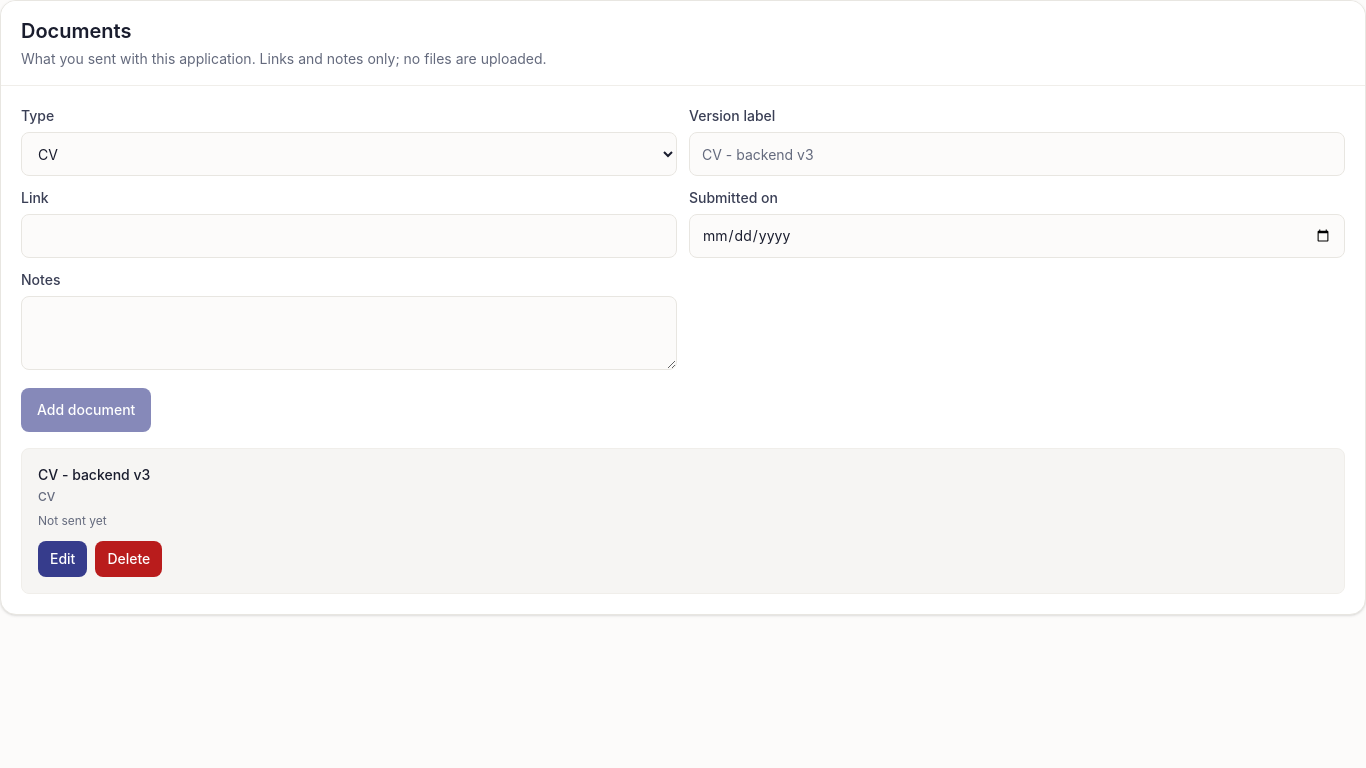
Test case: JobDetailDocumentsPanel › deletes a document
The image size is (1366, 768).
Click the button with aria-label "Delete document CV - backend v3" at (129, 559), box [95,541,162,577]
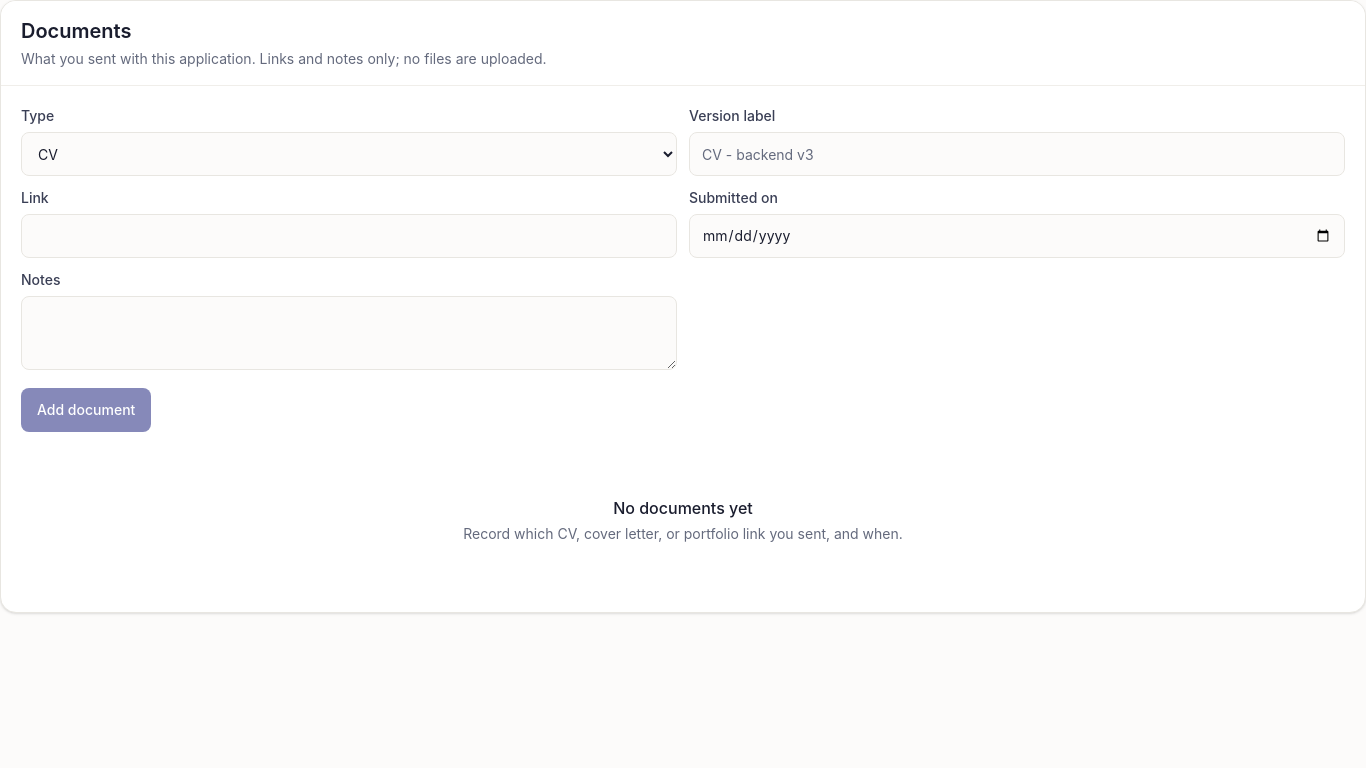
Result: the text "No documents yet" is shown at [613,496,753,520]
